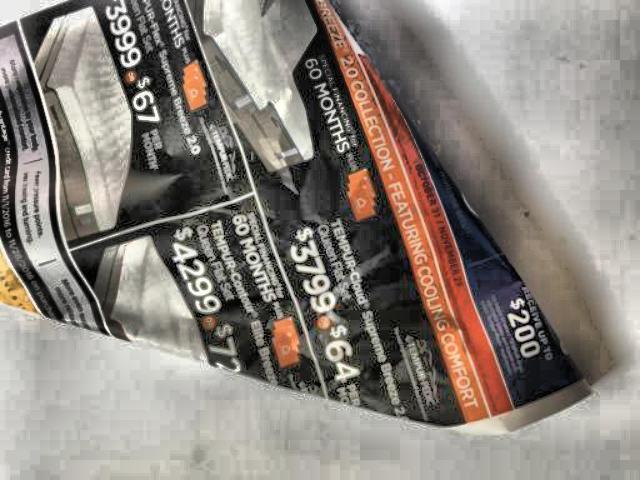Paper: (0, 4, 604, 438)
